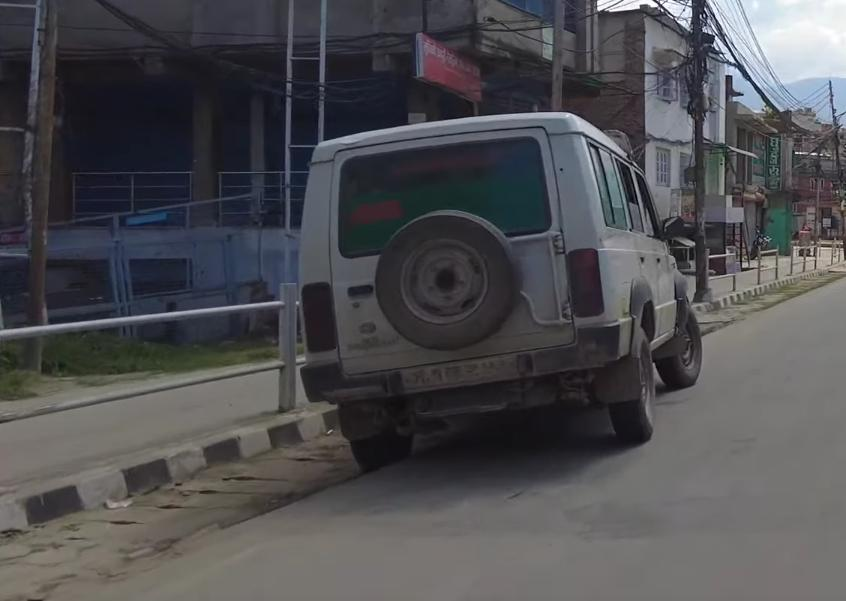ambulance: (286, 104, 711, 471)
